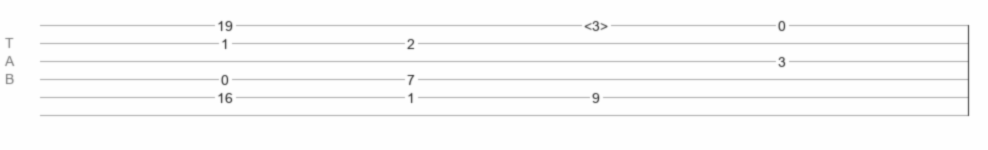0: (221, 72, 229, 82), (778, 18, 786, 28)
1: (221, 36, 229, 46), (407, 90, 415, 100)
16: (217, 90, 233, 100)
19: (217, 18, 233, 28)
2: (407, 36, 415, 46)
3: (778, 54, 786, 64)
7: (407, 72, 415, 82)
9: (592, 90, 600, 100)
harmonic: (584, 18, 608, 28)
